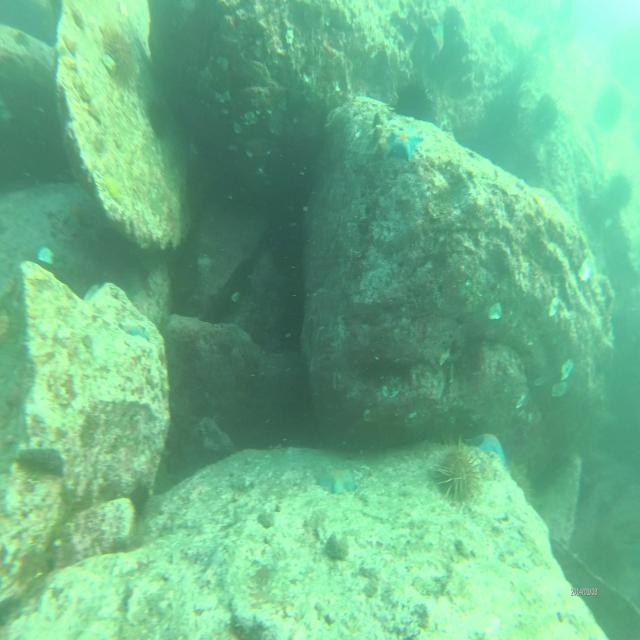echinus: (435, 442, 486, 504), (102, 27, 136, 89), (534, 96, 560, 134), (148, 96, 169, 141), (611, 173, 631, 207)
starfish: (388, 124, 422, 166), (315, 464, 359, 496), (472, 430, 508, 466), (425, 20, 447, 65), (119, 316, 149, 342)
